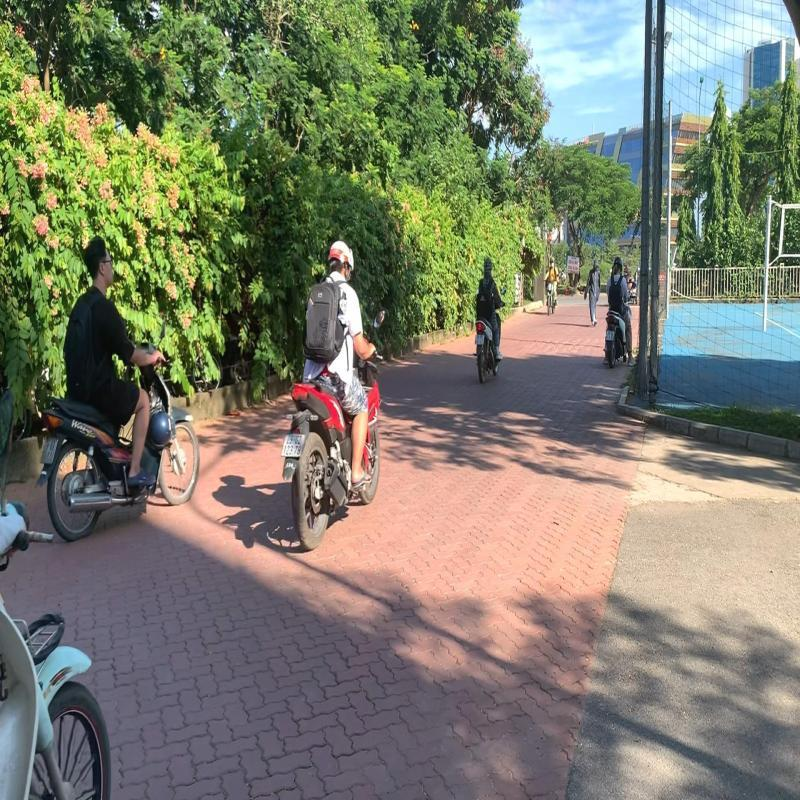helmet: (327, 239, 355, 277)
licenseplate: (39, 435, 59, 469), (282, 432, 306, 460)
motorcyclist: (32, 233, 203, 546), (278, 235, 387, 555)
nohelmet: (78, 234, 117, 287)
